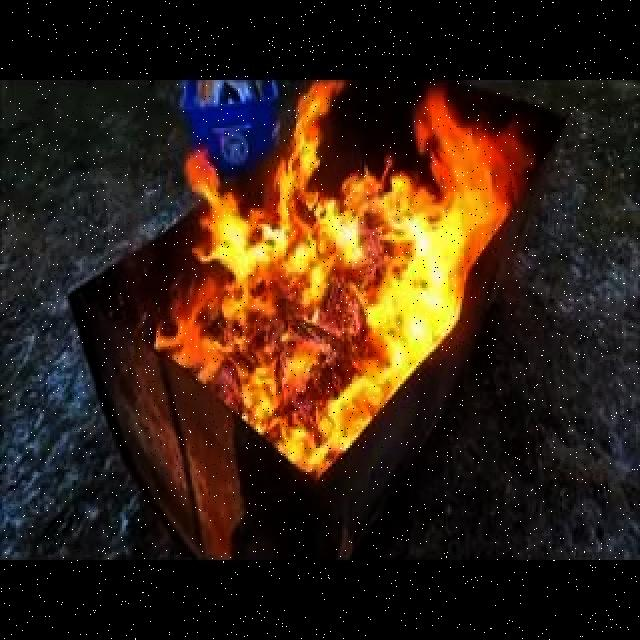fire: (160, 77, 538, 475)
